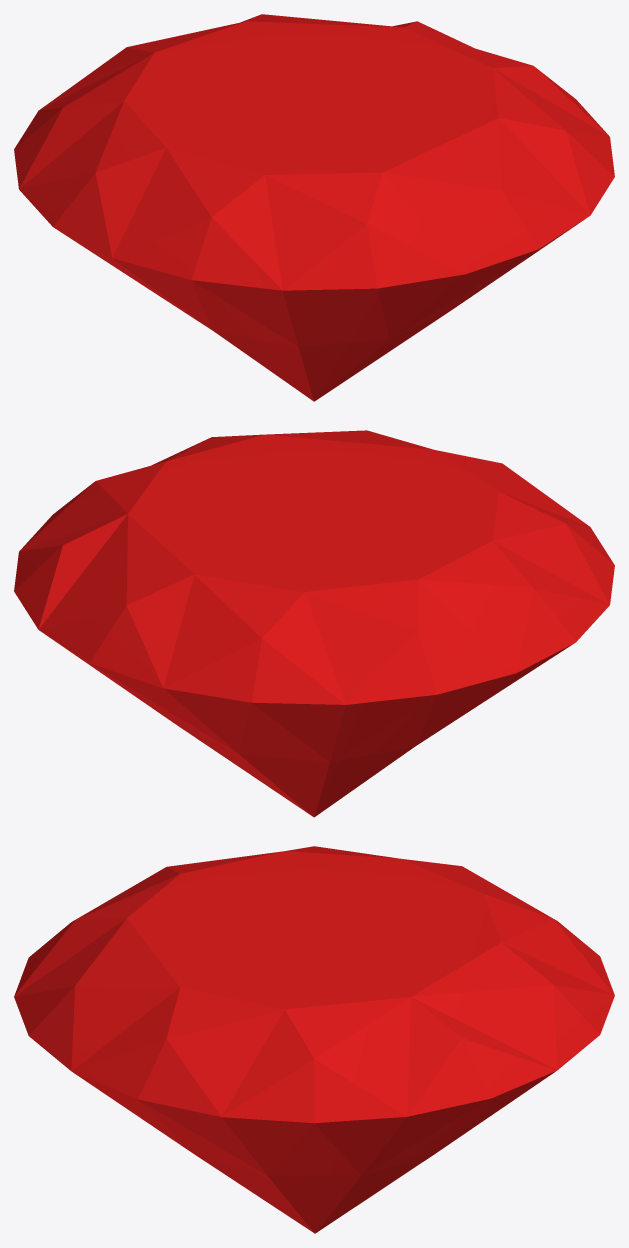
3 views of the same model, one above another, from view 1: azimuth 30°, elevation 25°; view 2: azimuth 150°, elevation 25°; view 3: azimuth 270°, elevation 25° (orthographic).
Visible parts, largest first — view 1: Diamond_1_0.001; view 2: Diamond_1_0.001; view 3: Diamond_1_0.001.
Part boxes in pixels (x1,y1,x2,y2): Diamond_1_0.001: (14, 14, 614, 401); Diamond_1_0.001: (14, 430, 614, 817); Diamond_1_0.001: (14, 846, 614, 1233).
Size of the model in its own units: 1.98 by 1.11 by 1.98.
